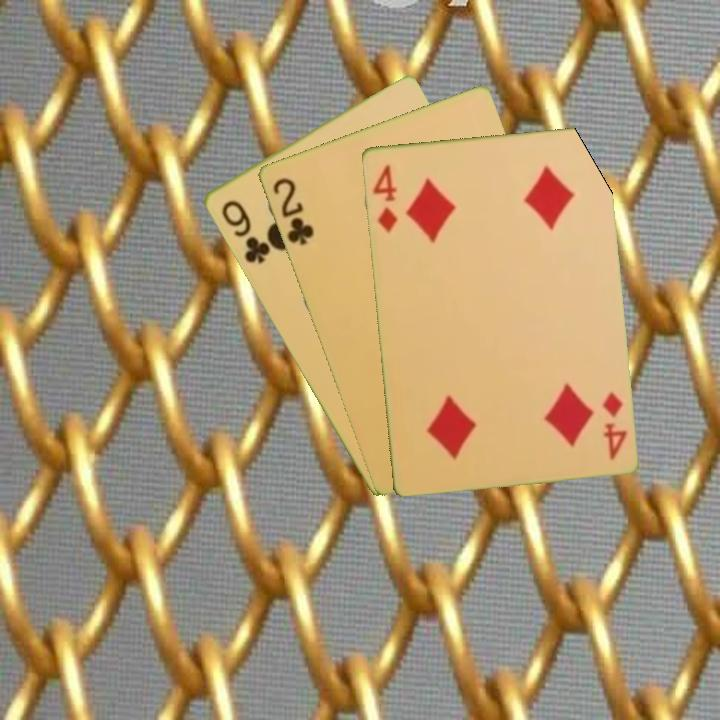2c: (268, 173, 317, 248)
4d: (598, 388, 629, 463), (369, 161, 400, 235)
9c: (217, 196, 272, 267)
